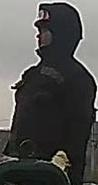helmet: (32, 7, 54, 30)
vest: (2, 58, 96, 184)
